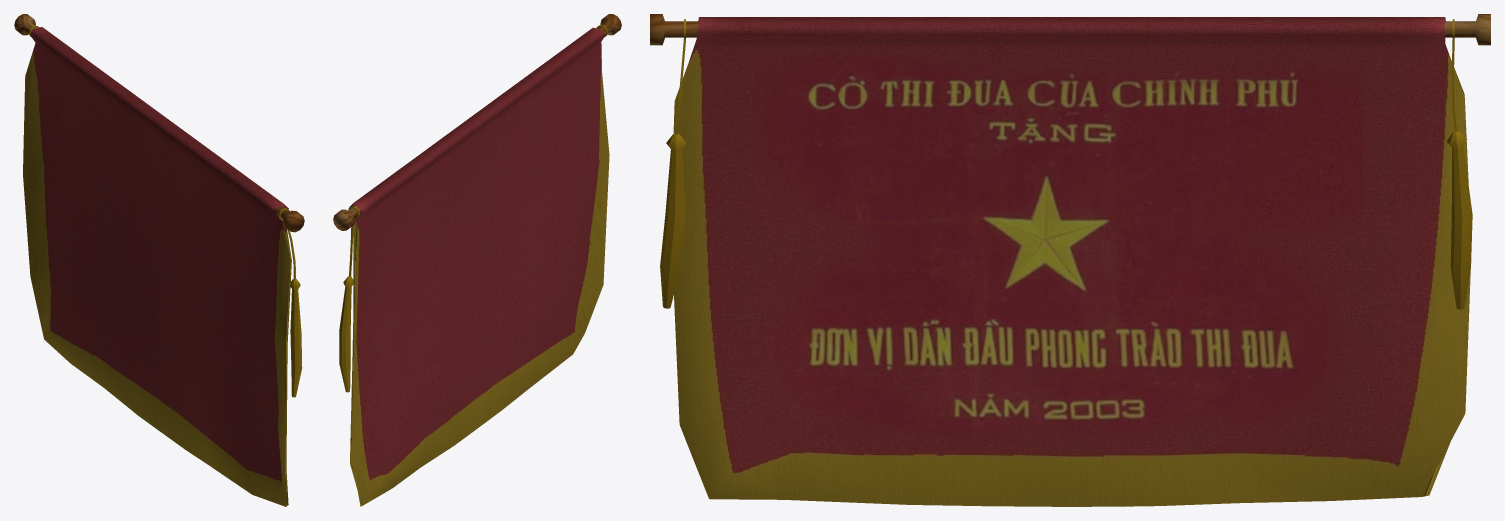
The model's file is cochinhphu.glb.
3 renders of one model, left to right at view 1: azimuth 30°, elevation 25°; view 2: azimuth 150°, elevation 25°; view 3: azimuth 270°, elevation 25°, orthographic. The views are drawn at different scales.
Visible parts, largest first — view 1: cochinhphu; view 2: cochinhphu; view 3: cochinhphu.
Boxes of the visible parts, x1,y1,x2,y2 form: cochinhphu: (14, 14, 304, 506); cochinhphu: (333, 14, 621, 506); cochinhphu: (650, 14, 1490, 506).
Bounding box in the file's own units: 7.58 × 91.27 × 142.
Materials: 1 (1 with a texture image).
